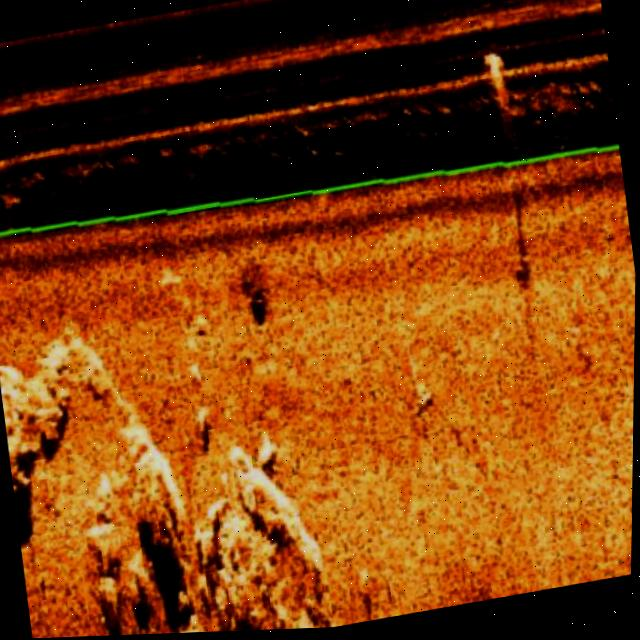bedrock group: (0, 299, 337, 640)
